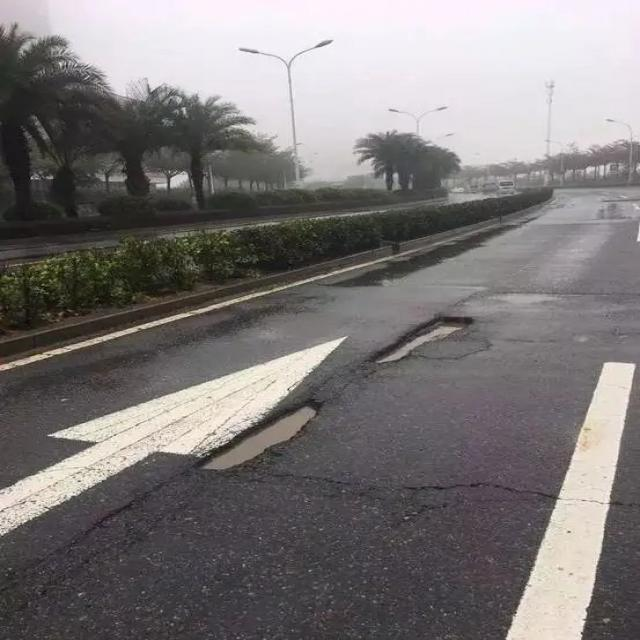Pothole: (192, 401, 320, 472), (369, 314, 474, 365)
